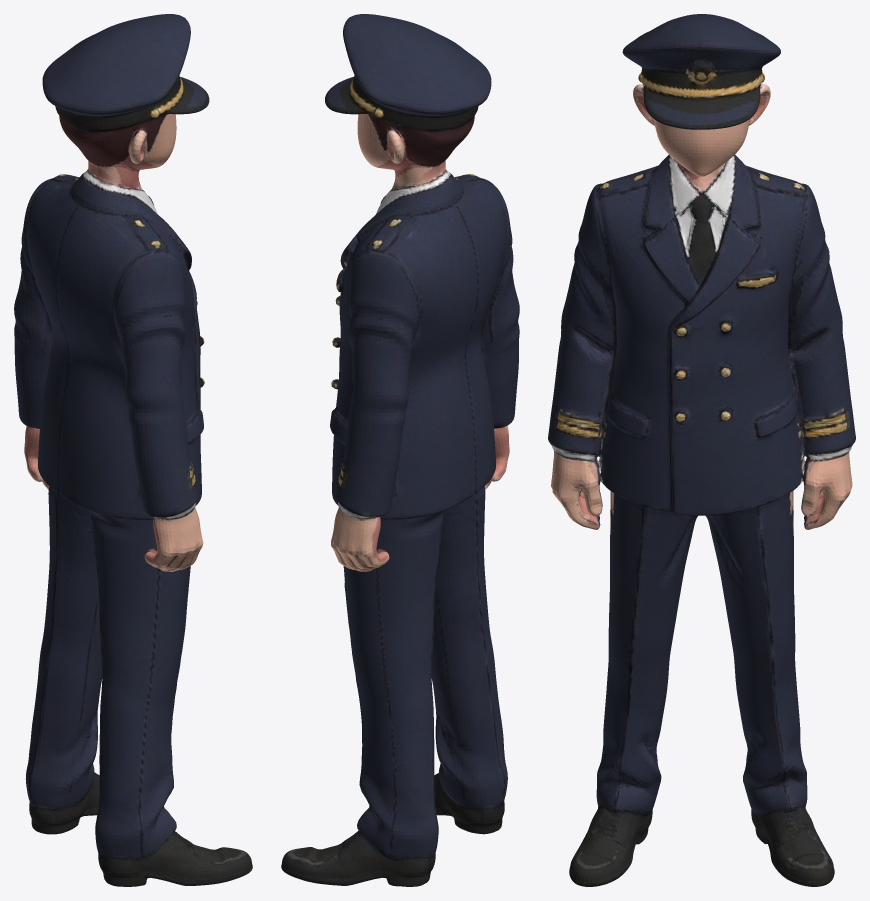
File: navy officer 3d model.glb
The picture shows the model from 3 angles, left to right: view 1: azimuth 30°, elevation 25°; view 2: azimuth 150°, elevation 25°; view 3: azimuth 270°, elevation 25°; orthographic projection. The views are drawn at different scales.
Parts seen in each view (by area): view 1: tripo_node_05bb12e4-f41d-4652-bea6-0b06be287d87; view 2: tripo_node_05bb12e4-f41d-4652-bea6-0b06be287d87; view 3: tripo_node_05bb12e4-f41d-4652-bea6-0b06be287d87.
Boxes of the visible parts, box(x1,y1,x2,y2) form: tripo_node_05bb12e4-f41d-4652-bea6-0b06be287d87: box(14, 14, 252, 886); tripo_node_05bb12e4-f41d-4652-bea6-0b06be287d87: box(281, 14, 519, 886); tripo_node_05bb12e4-f41d-4652-bea6-0b06be287d87: box(548, 14, 855, 886).
Bounding box in the file's own units: 0.1937 × 0.9999 × 0.3315.
Materials: 1 (1 with a texture image).
